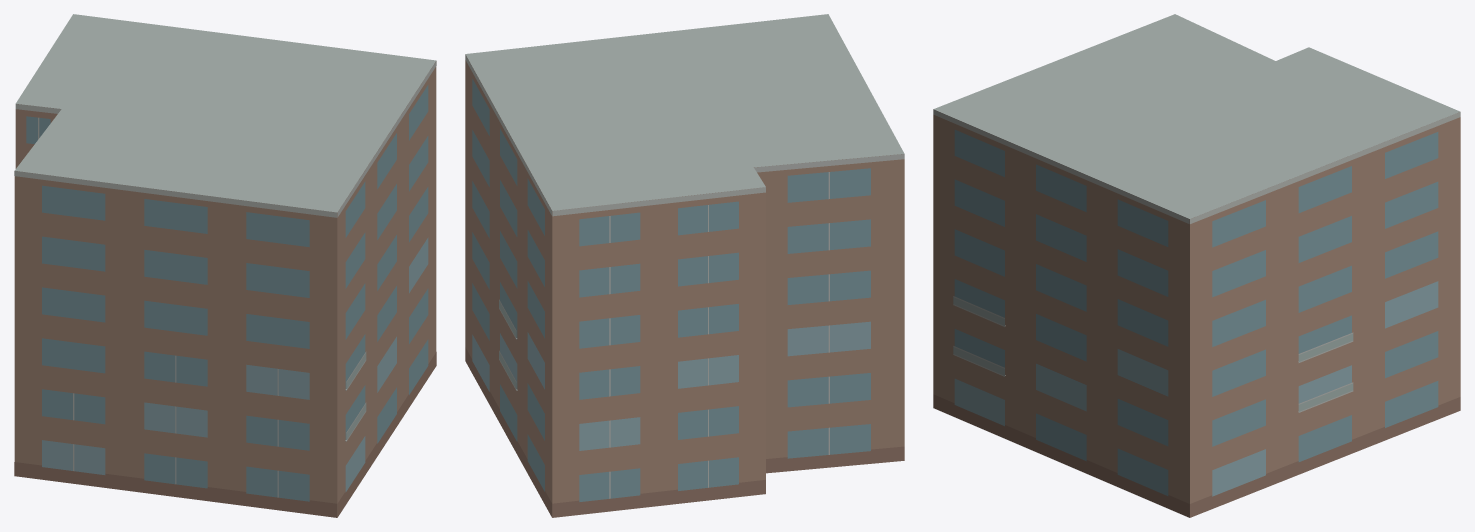
The model's file is survey-upis-32563206.glb.
3 views of the same model, side by side, from view 1: azimuth 30°, elevation 25°; view 2: azimuth 150°, elevation 25°; view 3: azimuth 270°, elevation 25° (orthographic). The views are drawn at different scales.
Parts seen in each view (by area): view 1: survey-upis-32563206.tmp; view 2: survey-upis-32563206.tmp; view 3: survey-upis-32563206.tmp.
Part boxes in pixels (x1,y1,x2,y2): survey-upis-32563206.tmp: [14, 14, 436, 517]; survey-upis-32563206.tmp: [465, 14, 904, 517]; survey-upis-32563206.tmp: [933, 14, 1460, 517].
Bounding box in the file's own units: 20.47 × 13.9 × 22.24.
